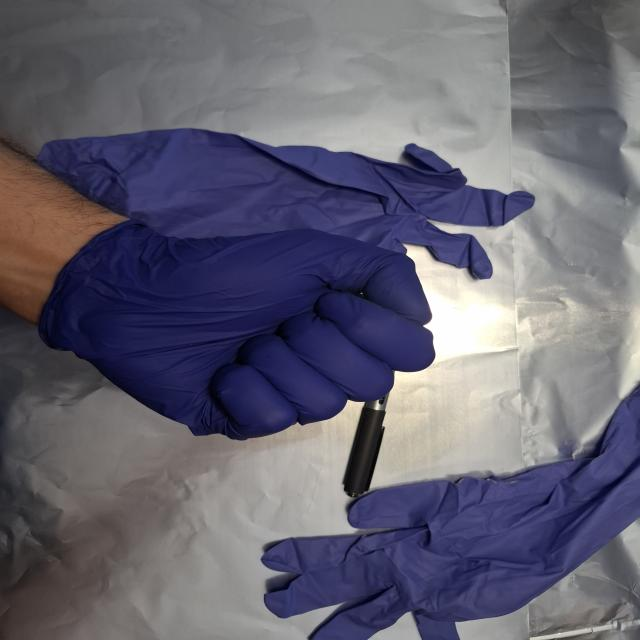glove_on: (37, 211, 440, 446)
